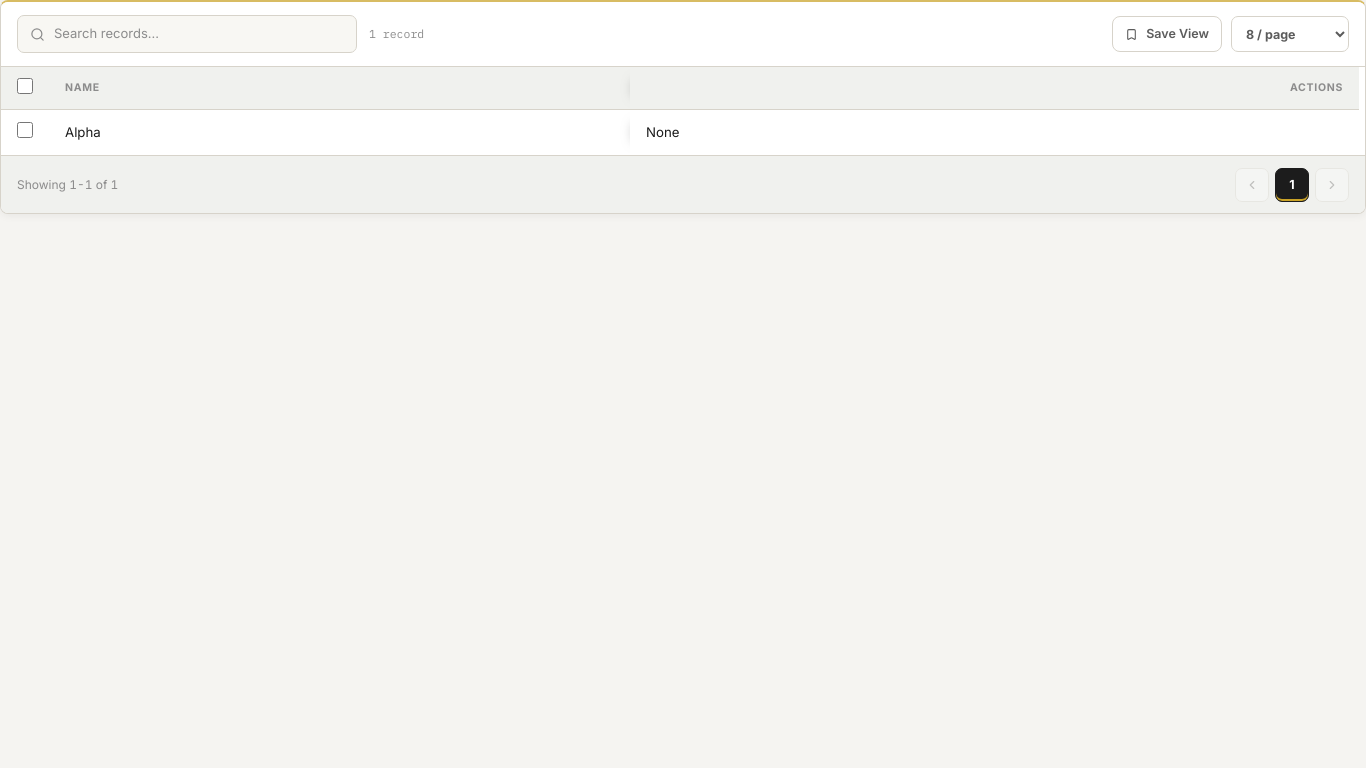
Test case: uses a themed dialog to save a table view
This screenshot has width=1366, height=768.
Click the button "Save View" at (1167, 34), box [1112,16,1222,52]
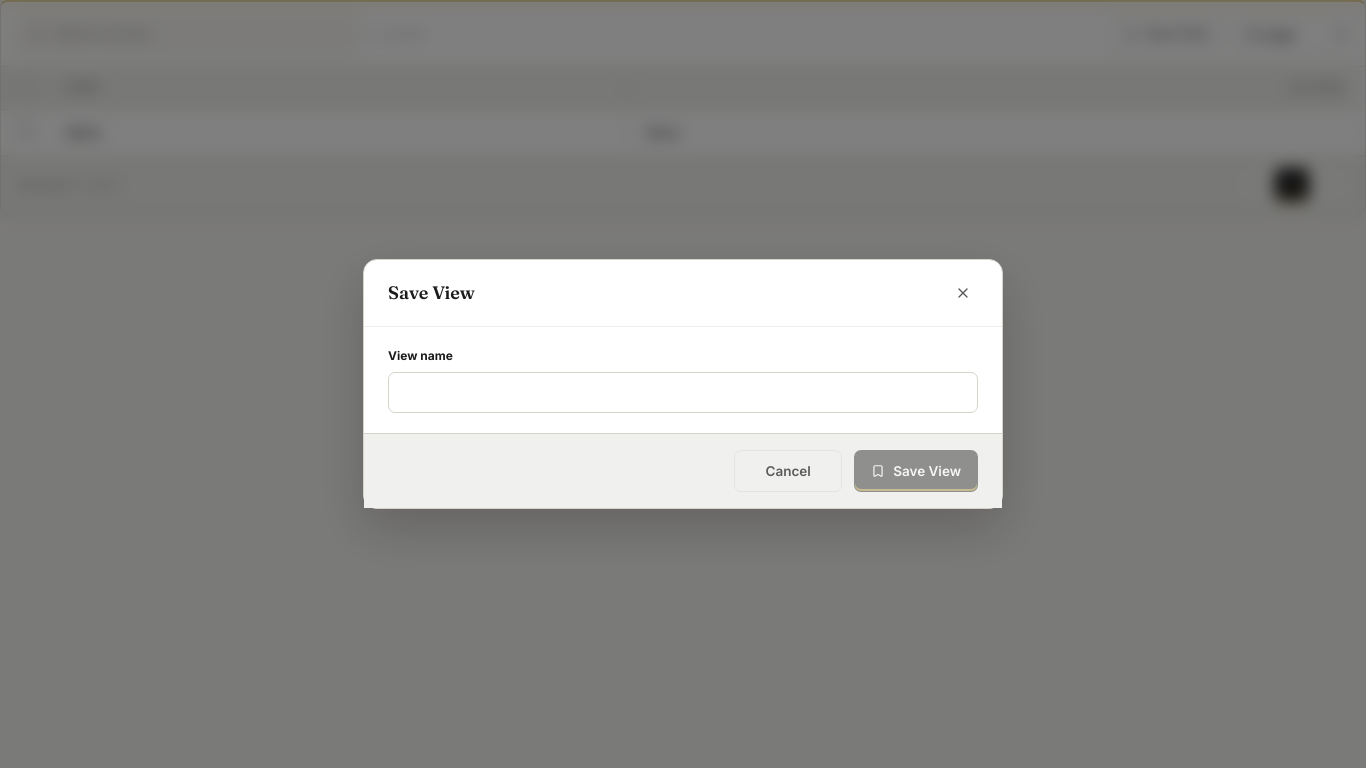
Type "Night listings" into the field labelled "View name" at (683, 392), box [388,372,978,413]
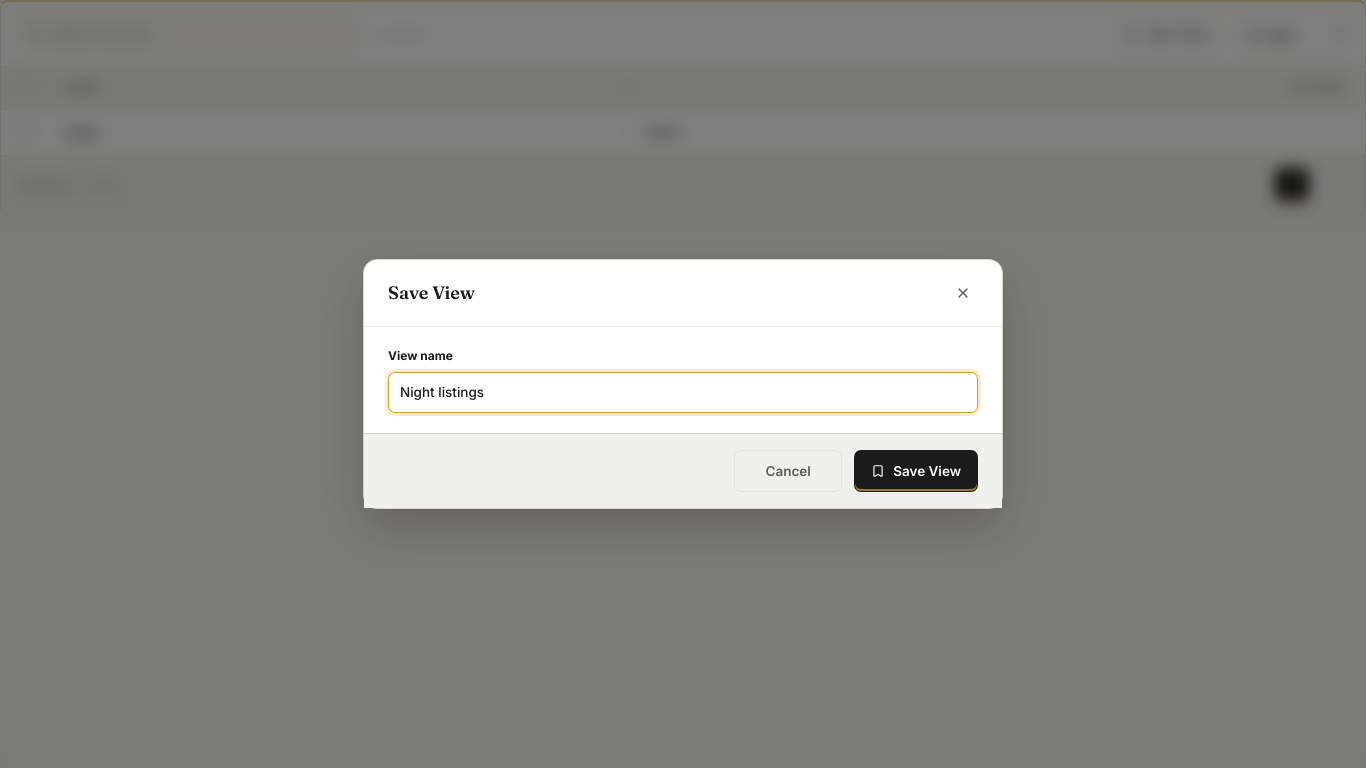
Click the button "Save View" at (916, 471), box [854,450,978,492]
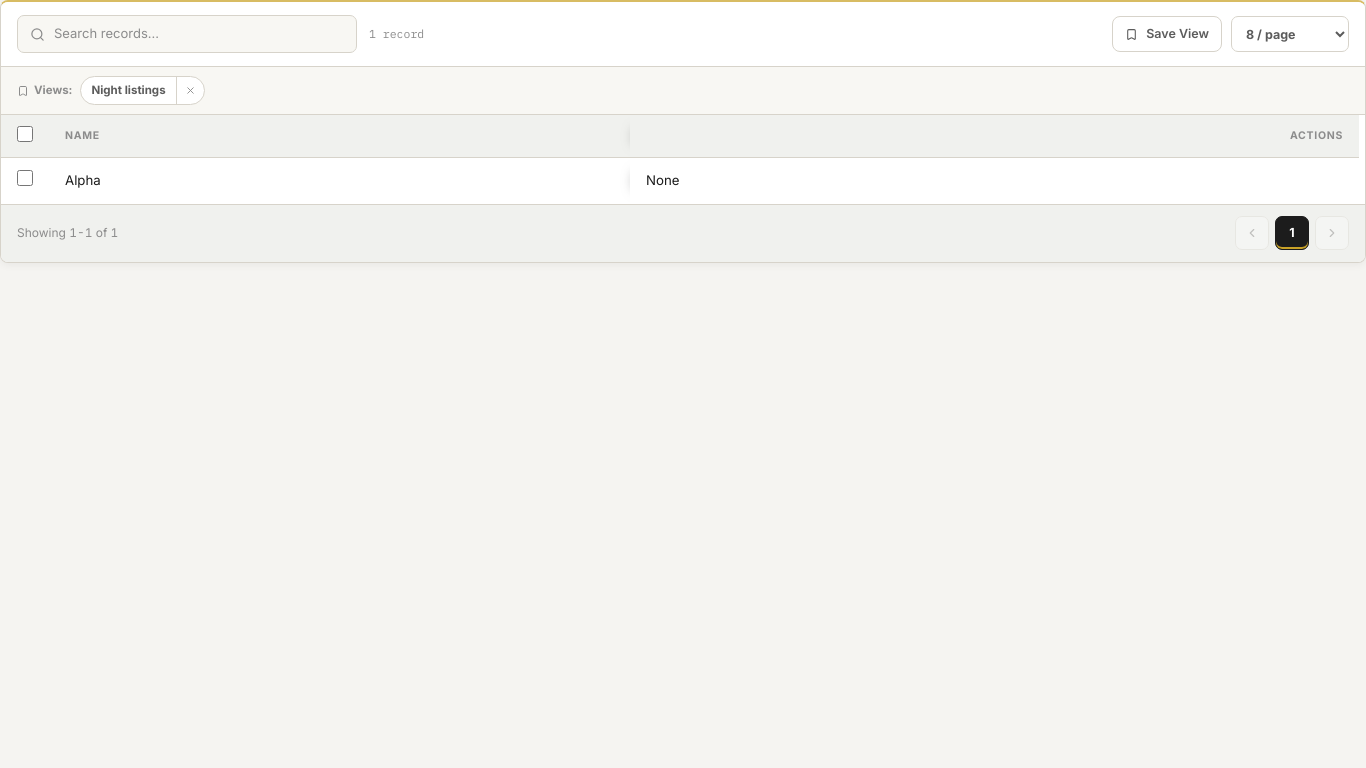
Expected: the button "Night listings" is shown, [82,77,176,104]
